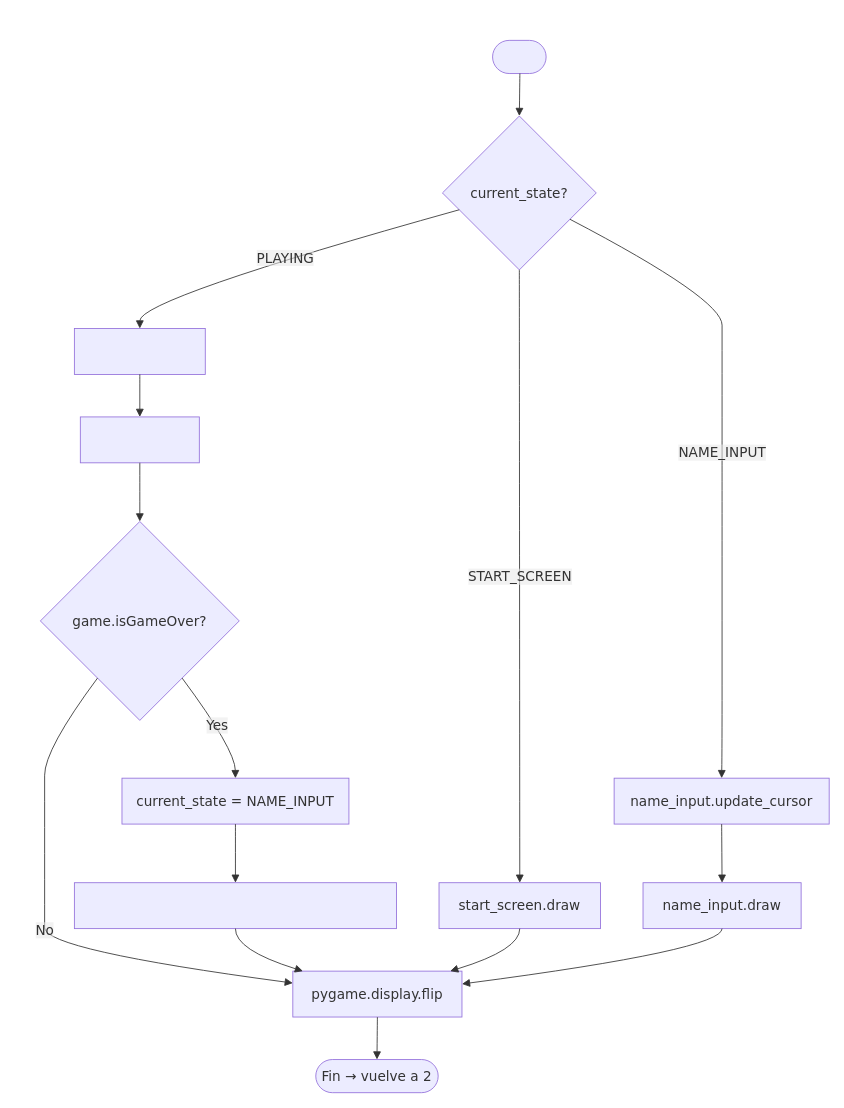
Image size: 844x1108. Some labels were removed from this diagram. The shapes that lost their labels are listed below. From the top down, each one's centre as x and y in pixels, then its label:
the point at 519,57: Inicio
the point at 139,351: game.update
the point at 139,439: game.draw
the point at 235,905: name_input = NameInput screen game.score
